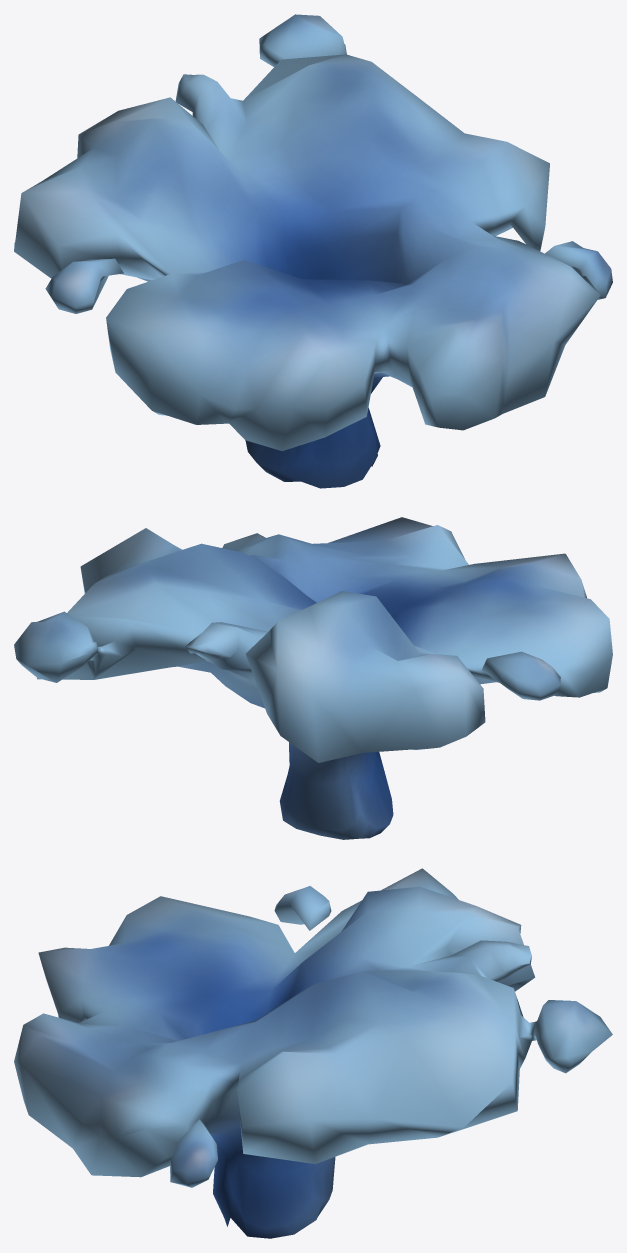
File: water_FBX.fbx
The picture shows the model from 3 angles, top to bottom: view 1: azimuth 30°, elevation 25°; view 2: azimuth 150°, elevation 25°; view 3: azimuth 270°, elevation 25°; orthographic projection. The views are drawn at different scales.
Parts seen in each view (by area): view 1: pCube1, pCube3, pCube2; view 2: pCube1, pCube3; view 3: pCube1, pCube2, pCube3.
Boxes of the visible parts, <box> form: pCube1: <box>14,14,600,488</box>; pCube3: <box>45,258,123,313</box>; pCube2: <box>545,241,612,299</box>; pCube1: <box>14,517,612,839</box>; pCube3: <box>482,651,560,700</box>; pCube1: <box>14,868,612,1238</box>; pCube2: <box>170,1119,217,1187</box>; pCube3: <box>274,886,331,930</box>.
Bounding box in the file's own units: 23.73 × 14.09 × 26.1.
